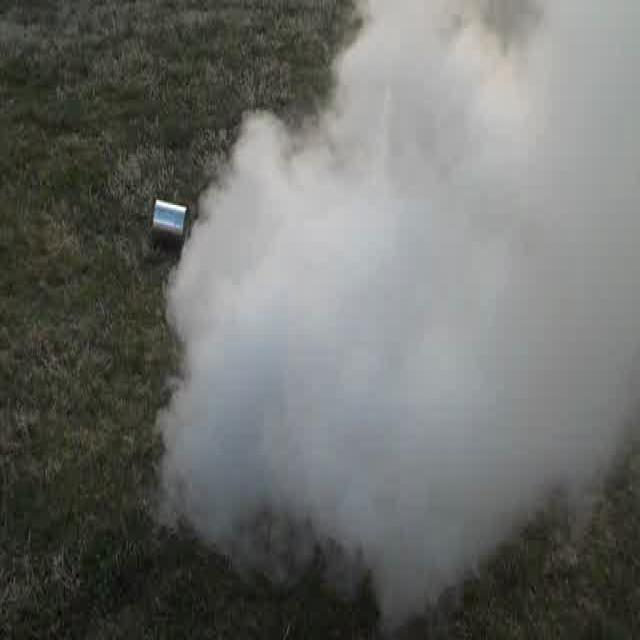Smoke: (177, 3, 640, 585)
